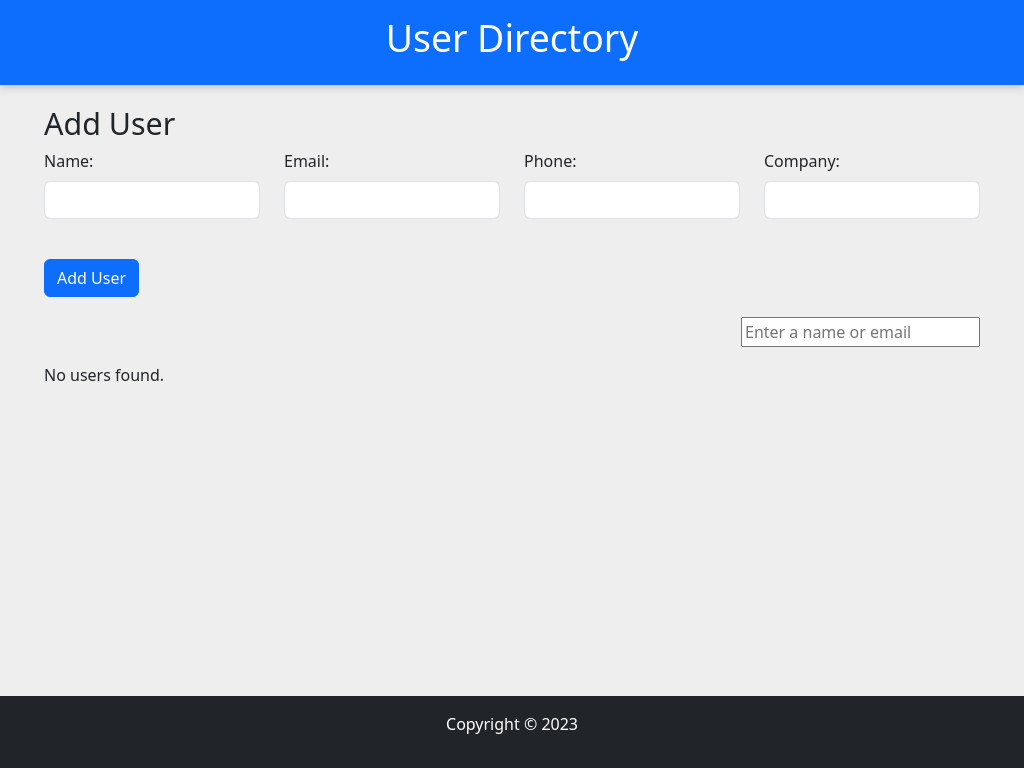
Test: displays a message when no users match the search term
The width and height of the screenshot is (1024, 768).
Search for a term that doesn't match any users
Type "foobar" into the field named "search".
click(860, 332); type("foobar")  # box 741,317 -> 980,347
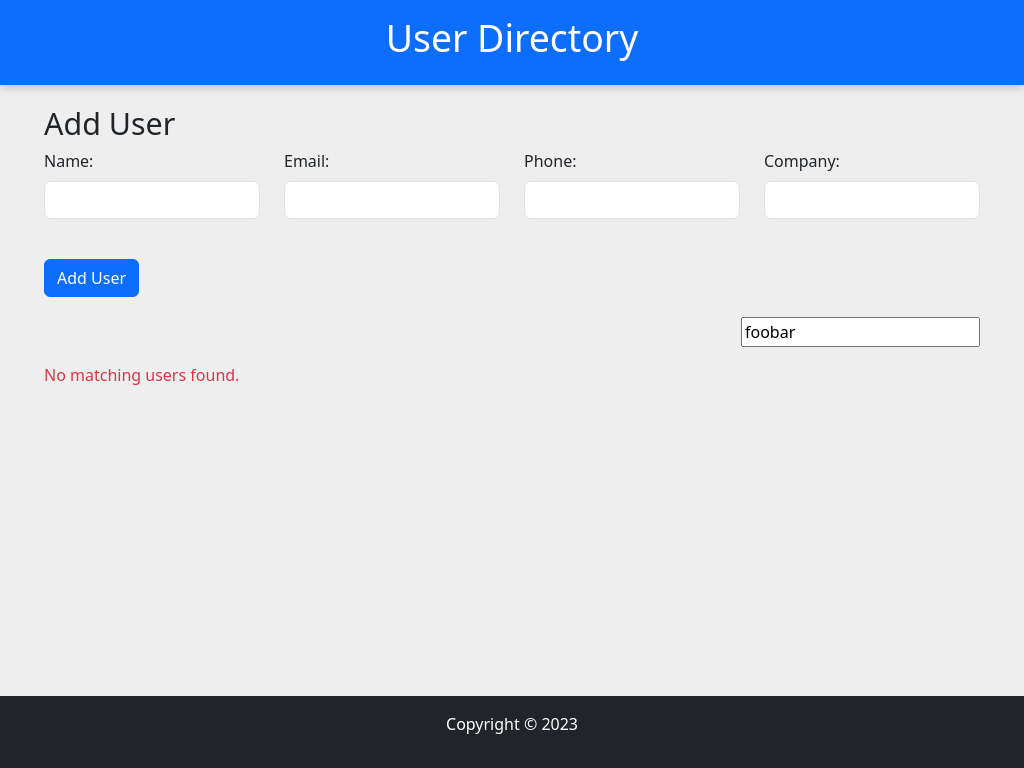
expect the text "No matching users found." is shown: met, box 44,364 -> 239,386
